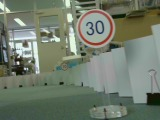speed_30: (74, 8, 114, 48)
